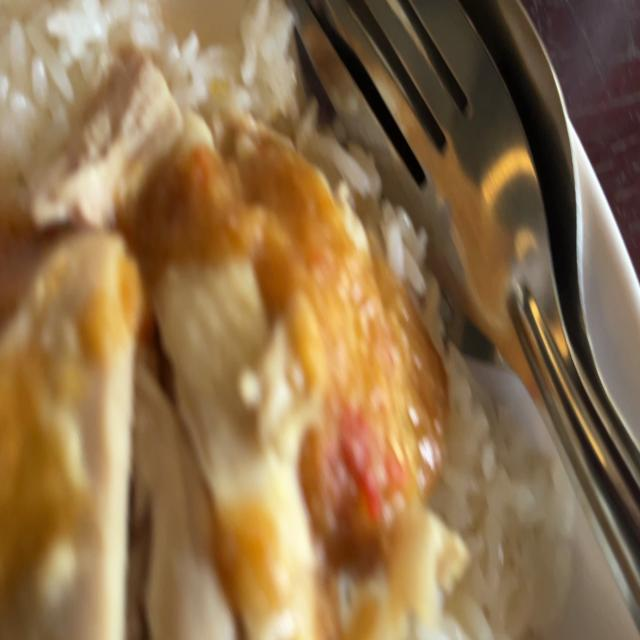chicken_rice: (0, 80, 435, 640)
